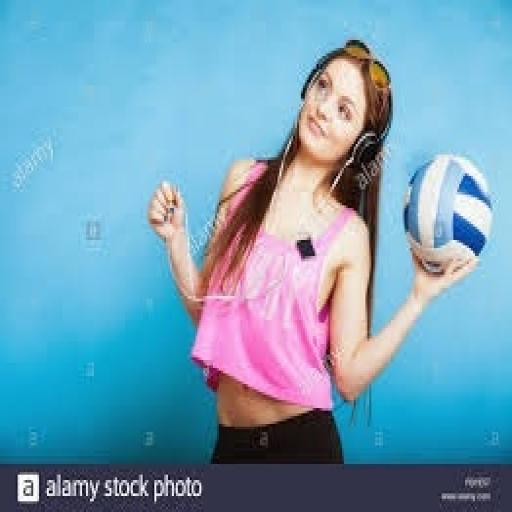listening_to_music: (144, 37, 482, 467)
